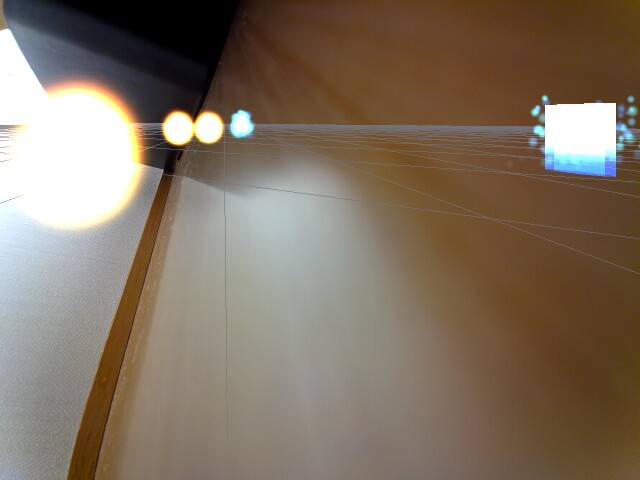firebig: (4, 63, 156, 244)
